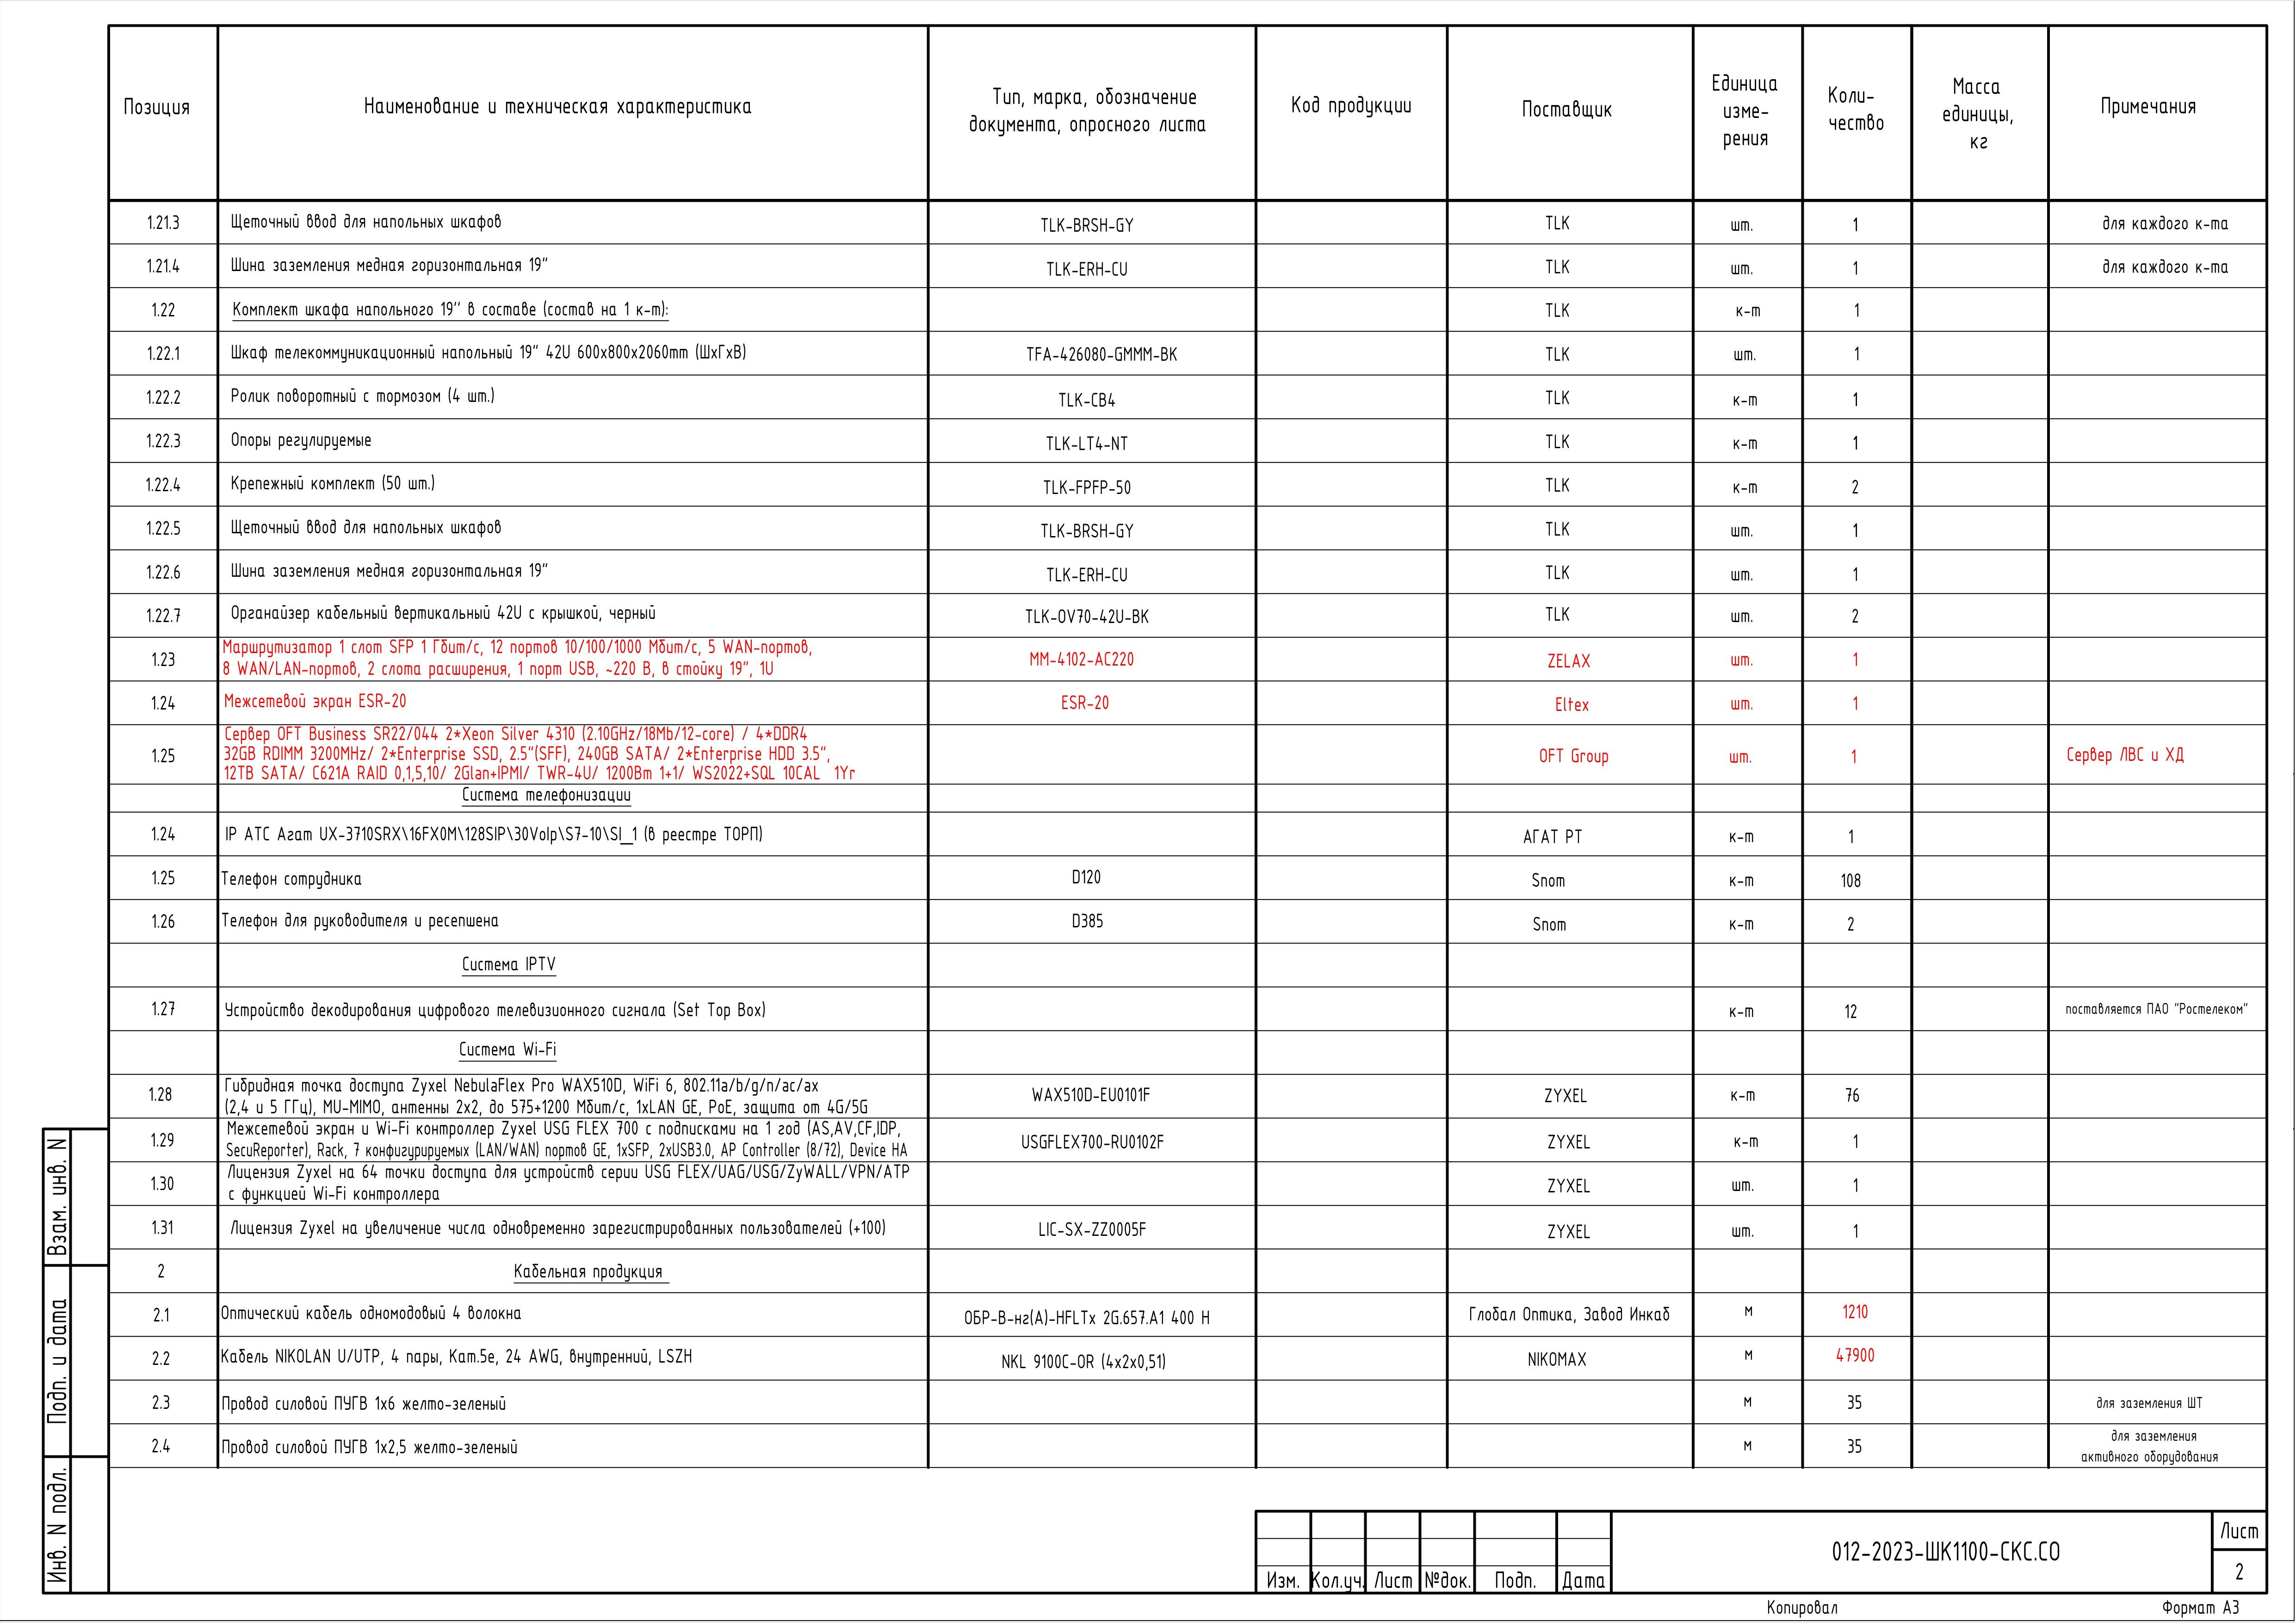Name of costs: (220, 198, 931, 1467)
Note: (929, 200, 1256, 1467)
Quantity: (1802, 202, 1911, 1467)
Unit of measurement: (1692, 200, 1802, 1467)
